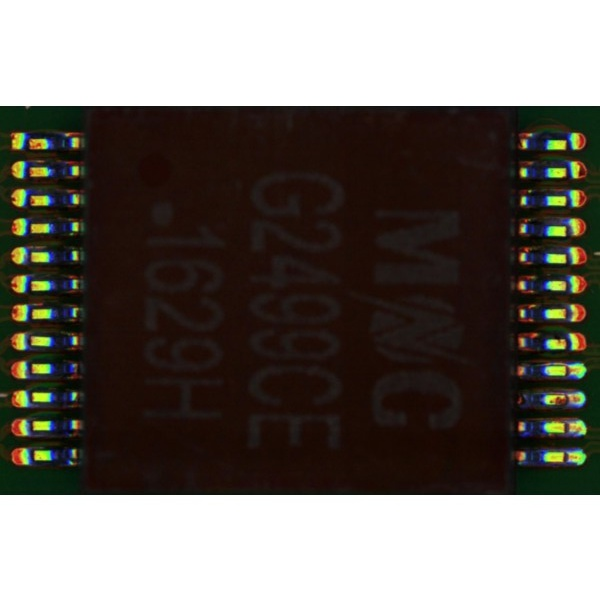Bad_podu: (562, 422, 575, 432), (563, 366, 577, 375), (562, 393, 573, 404), (561, 451, 573, 461)
